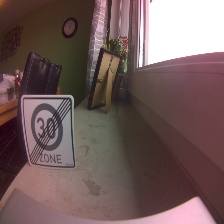dreisiger_zone_ende: (19, 95, 78, 170)
